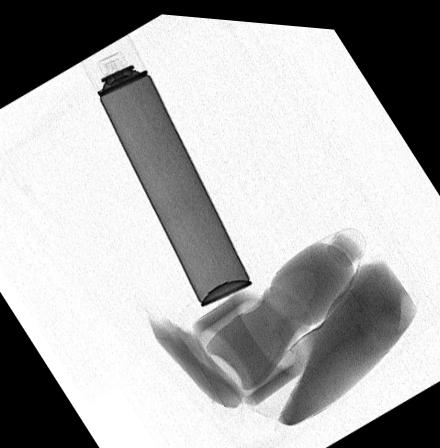Sprayer: (83, 31, 251, 302)
